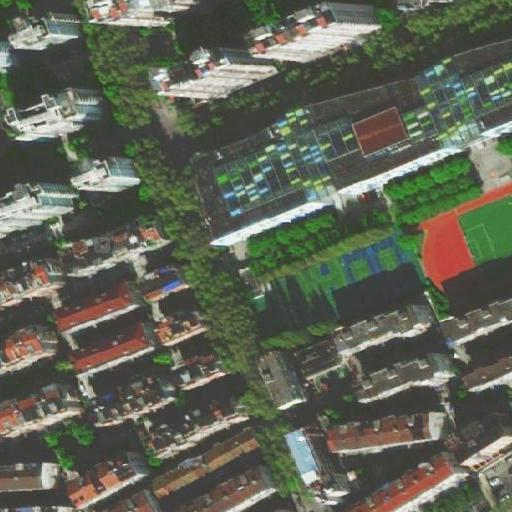building: (300, 38, 511, 203), (201, 113, 335, 244), (157, 420, 271, 493), (336, 291, 445, 362), (64, 216, 171, 277), (160, 398, 247, 458), (185, 463, 289, 512), (276, 6, 371, 59), (358, 350, 452, 401), (77, 320, 161, 376), (0, 383, 83, 438), (13, 92, 104, 142), (336, 409, 443, 451), (174, 52, 267, 100), (73, 449, 149, 507), (60, 281, 143, 334), (98, 375, 180, 427), (0, 184, 78, 235), (289, 424, 344, 494), (262, 345, 311, 409), (459, 412, 512, 468), (450, 300, 512, 347), (8, 15, 78, 56), (157, 301, 215, 349), (297, 335, 352, 381), (179, 352, 233, 397), (78, 158, 145, 191), (142, 263, 194, 303), (465, 362, 512, 400), (0, 460, 56, 488), (1, 499, 81, 512), (243, 267, 269, 300), (254, 497, 300, 511)
